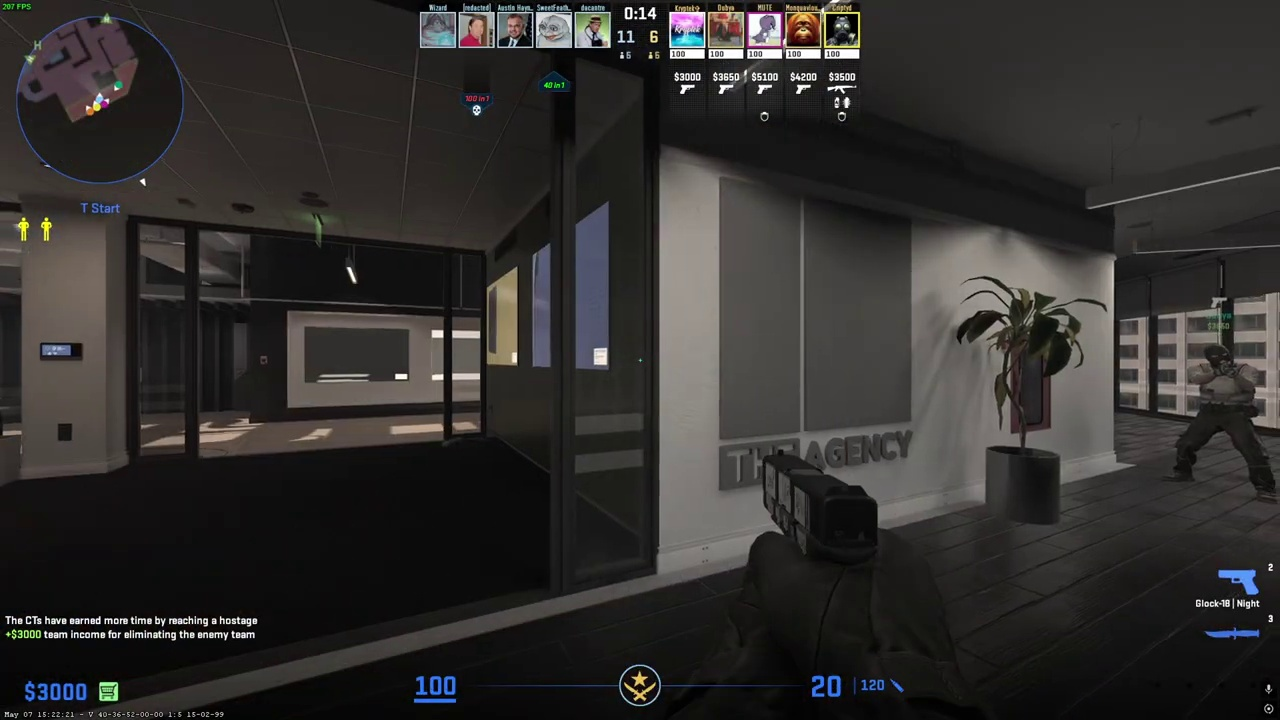Terrorist: (1176, 344, 1273, 499)
